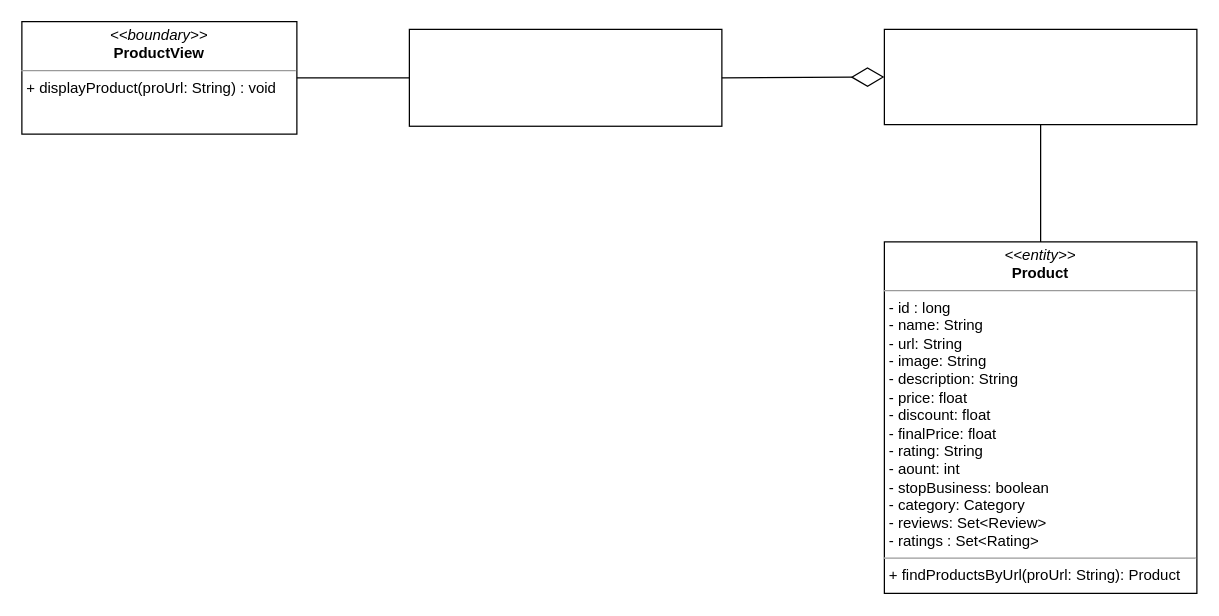
This 1219x616 diagram has some shape labels left out. The centre of each missing label's shape, as x and y in pixels:
<<controller>> ProductController + getProductByUrl(proUrl: String): Product: [565,77]
<<service>> ProductService + getProductByUrl(proUrl: String): Product: [1040,76]
